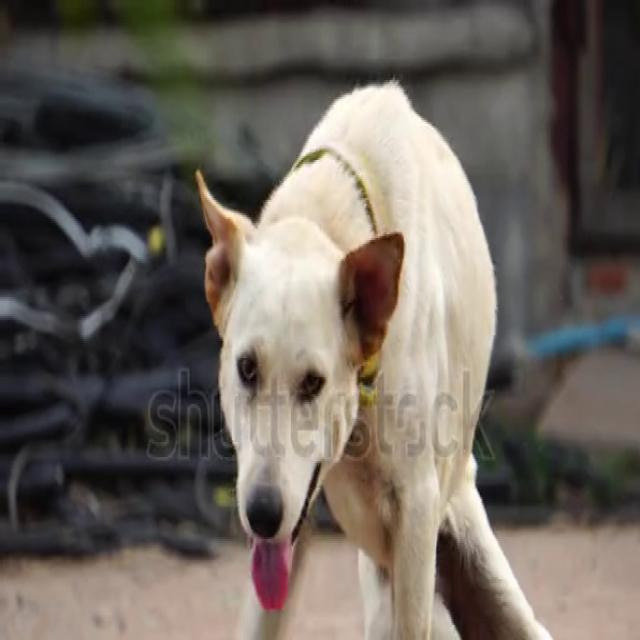normal_animals: (190, 74, 570, 638)
